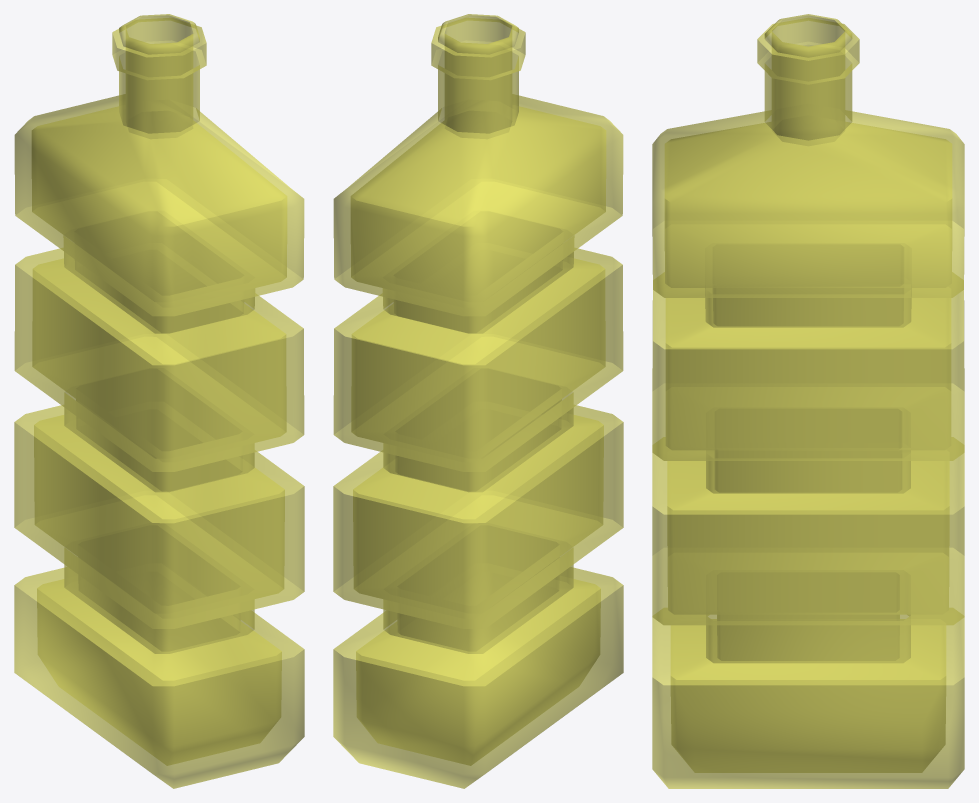
File: PROP_013_Bottles_N.fbx
3 renders of one model, left to right at view 1: azimuth 30°, elevation 25°; view 2: azimuth 150°, elevation 25°; view 3: azimuth 270°, elevation 25°, orthographic. The views are drawn at different scales.
Parts seen in each view (by area): view 1: Cuadrado_013; view 2: Cuadrado_013; view 3: Cuadrado_013.
Part boxes in pixels (x1,y1,x2,y2): Cuadrado_013: (14,14,304,788); Cuadrado_013: (333,14,623,788); Cuadrado_013: (652,14,964,788).
Size of the model in its own units: 0.1081 by 0.4743 by 0.1838.
